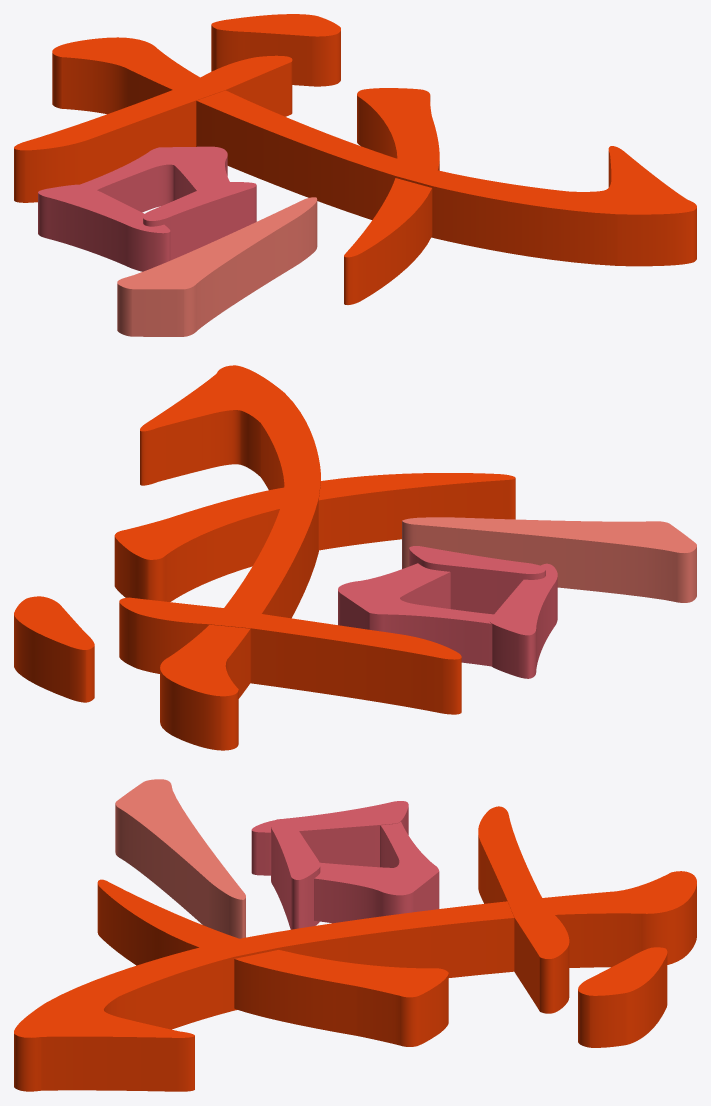
The model's file is hanzi142.fbx.
3 renders of one model, top to bottom at view 1: azimuth 30°, elevation 25°; view 2: azimuth 150°, elevation 25°; view 3: azimuth 270°, elevation 25°, orthographic. The views are drawn at different scales.
Visible parts, largest first — view 1: Curve.005, Curve, Curve.004, Curve.006, Curve.001, Curve.007, Curve.002, Curve.003; view 2: Curve.005, Curve.006, Curve, Curve.004, Curve.002, Curve.007, Curve.001, Curve.003; view 3: Curve.005, Curve.006, Curve.004, Curve, Curve.002, Curve.007, Curve.001, Curve.003.
Part boxes in pixels (left/top/right/bottom): Curve.005: left=52, top=37, right=696, bottom=266; Curve: left=14, top=55, right=292, bottom=202; Curve.004: left=117, top=197, right=317, bottom=336; Curve.006: left=344, top=88, right=439, bottom=304; Curve.001: left=38, top=184, right=170, bottom=271; Curve.007: left=211, top=14, right=340, bottom=86; Curve.002: left=81, top=146, right=229, bottom=212; Curve.003: left=143, top=182, right=256, bottom=260; Curve.005: left=140, top=365, right=320, bottom=750; Curve.006: left=114, top=473, right=515, bottom=601; Curve: left=119, top=597, right=461, bottom=714; Curve.004: left=402, top=517, right=696, bottom=602; Curve.002: left=338, top=563, right=493, bottom=666; Curve.007: left=14, top=596, right=94, bottom=702; Curve.001: left=489, top=563, right=557, bottom=678; Curve.003: left=409, top=546, right=545, bottom=614; Curve.005: left=14, top=871, right=696, bottom=1091; Curve.006: left=97, top=879, right=448, bottom=1046; Curve.004: left=115, top=779, right=245, bottom=938; Curve: left=478, top=806, right=569, bottom=1013; Curve.002: left=314, top=822, right=439, bottom=923; Curve.007: left=578, top=947, right=667, bottom=1047; Curve.001: left=251, top=801, right=408, bottom=875; Curve.003: left=271, top=819, right=320, bottom=929.
Bounding box in the file's own units: 22.69 × 25.11 × 2.22.
